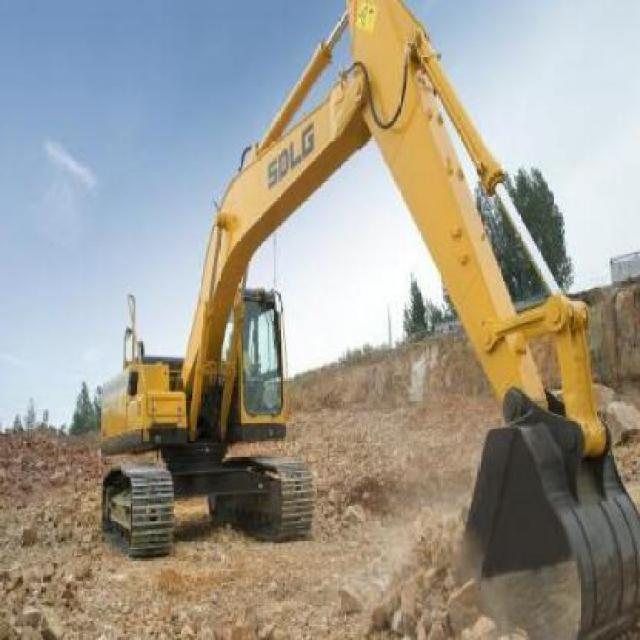Excavator: (88, 0, 640, 638)
